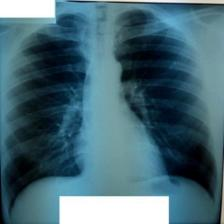tuberculosis: (0, 6, 219, 223)
